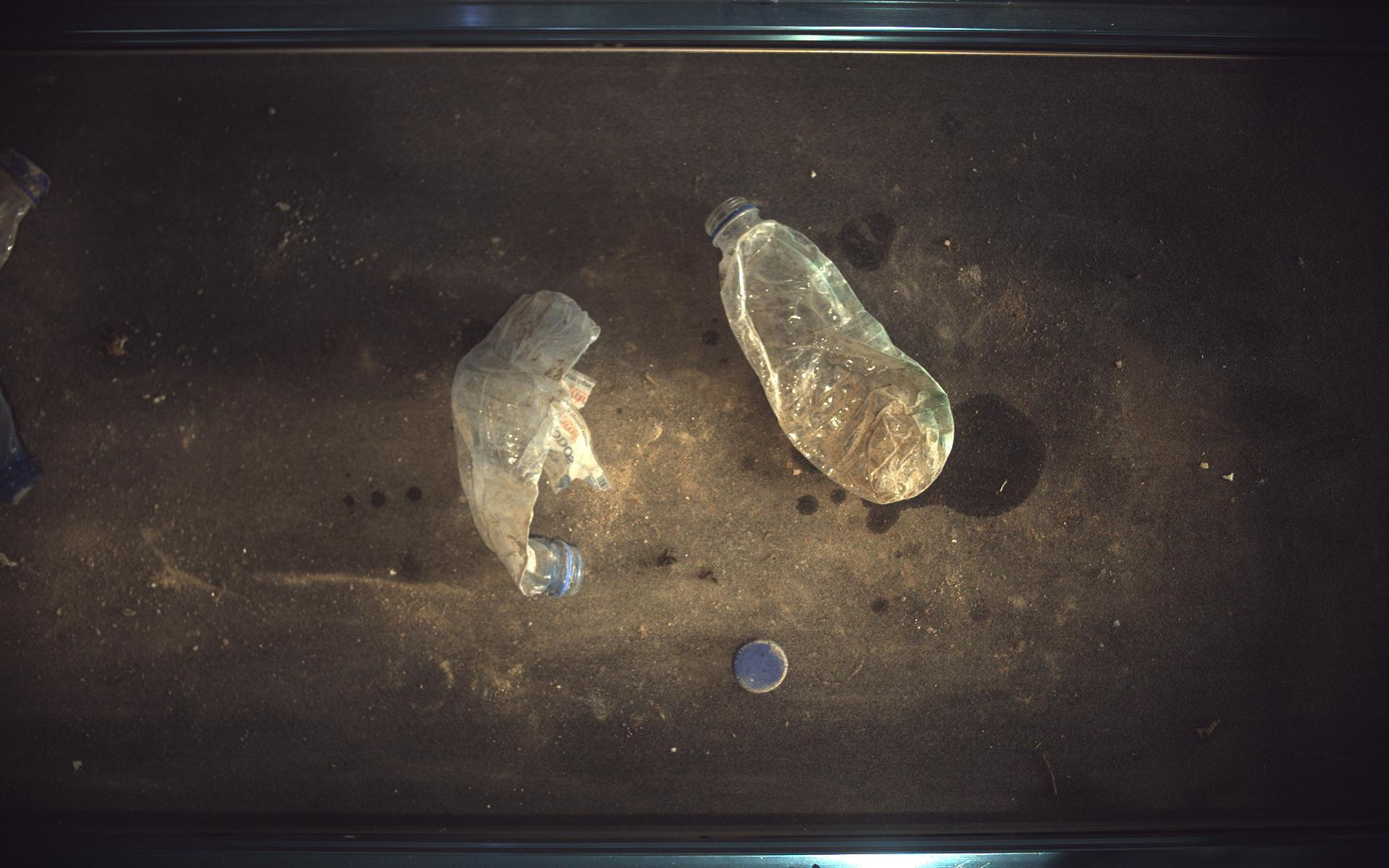general_w: (706, 197, 956, 505), (451, 290, 611, 598), (1, 147, 49, 265), (1, 391, 41, 506), (734, 641, 789, 694)
